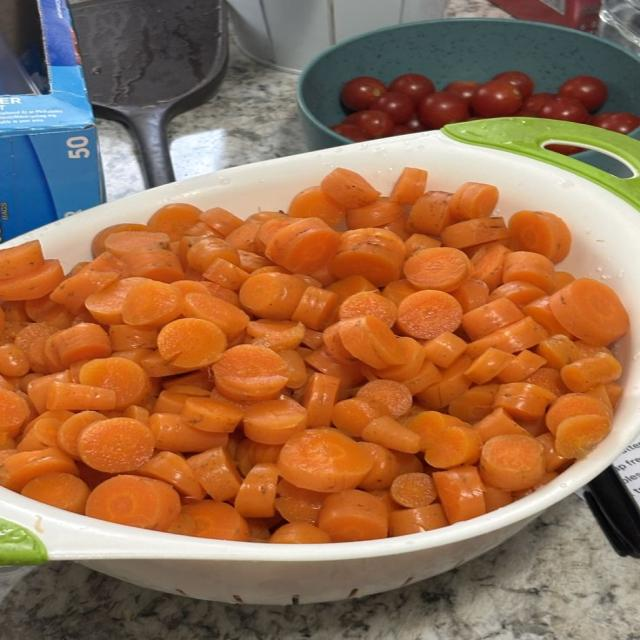carrot: (277, 428, 373, 491), (85, 474, 180, 531), (550, 278, 629, 345), (50, 252, 128, 313), (329, 228, 405, 286), (77, 417, 155, 472), (212, 345, 288, 401), (265, 218, 339, 273), (79, 356, 151, 410), (318, 489, 388, 542), (480, 434, 546, 490), (157, 318, 226, 369), (135, 451, 205, 501), (169, 499, 250, 542), (0, 447, 78, 491), (508, 210, 571, 263), (467, 316, 548, 357), (396, 290, 462, 339), (340, 316, 402, 368), (182, 292, 250, 339), (45, 323, 112, 370), (403, 246, 471, 292), (148, 413, 228, 452), (240, 273, 306, 320), (121, 278, 184, 327), (415, 355, 472, 409), (433, 466, 486, 523), (242, 398, 307, 444), (187, 447, 241, 501), (21, 472, 90, 514), (461, 298, 524, 341), (85, 278, 143, 324), (546, 393, 611, 434), (554, 414, 611, 459), (0, 260, 64, 300), (425, 425, 482, 469), (234, 463, 279, 518), (275, 478, 328, 524), (405, 410, 464, 451), (494, 382, 556, 421), (57, 410, 106, 459), (320, 168, 380, 208), (560, 353, 621, 392), (287, 186, 345, 227), (180, 397, 245, 433), (14, 322, 60, 372), (503, 251, 556, 294), (376, 337, 426, 382), (332, 397, 388, 437), (120, 248, 184, 283), (356, 379, 413, 418), (361, 415, 419, 453), (440, 217, 508, 249), (227, 437, 282, 476), (301, 372, 340, 427), (521, 295, 572, 337), (448, 383, 499, 424), (17, 412, 72, 450), (46, 382, 117, 411), (147, 203, 202, 240), (338, 291, 396, 326), (407, 191, 452, 236), (292, 286, 338, 330), (358, 441, 399, 490), (91, 223, 149, 257), (470, 243, 510, 292), (389, 503, 448, 536), (187, 236, 239, 273), (449, 182, 499, 220), (247, 319, 305, 351), (474, 408, 527, 443), (346, 197, 405, 228), (465, 348, 515, 384), (315, 322, 357, 363), (0, 241, 44, 280), (390, 472, 437, 508), (105, 231, 170, 257), (24, 295, 74, 328), (497, 350, 546, 382), (424, 331, 466, 368), (536, 334, 580, 369), (0, 388, 31, 437), (203, 258, 249, 291), (489, 281, 546, 307), (327, 275, 378, 304), (402, 359, 441, 396), (521, 366, 568, 396), (268, 522, 332, 544), (389, 168, 427, 205), (449, 278, 489, 313), (108, 324, 159, 351), (537, 432, 571, 471), (199, 207, 243, 237), (225, 220, 261, 253), (279, 350, 307, 389), (380, 278, 419, 306), (0, 343, 30, 376), (405, 233, 441, 257), (484, 485, 513, 512), (0, 320, 30, 339)
tomato: (472, 80, 522, 117), (418, 92, 469, 128), (558, 76, 606, 111), (341, 76, 386, 111), (389, 73, 435, 107), (370, 91, 414, 124), (538, 95, 589, 123), (348, 110, 393, 138), (493, 71, 533, 99), (591, 112, 639, 134), (443, 80, 479, 104), (394, 114, 423, 134)
